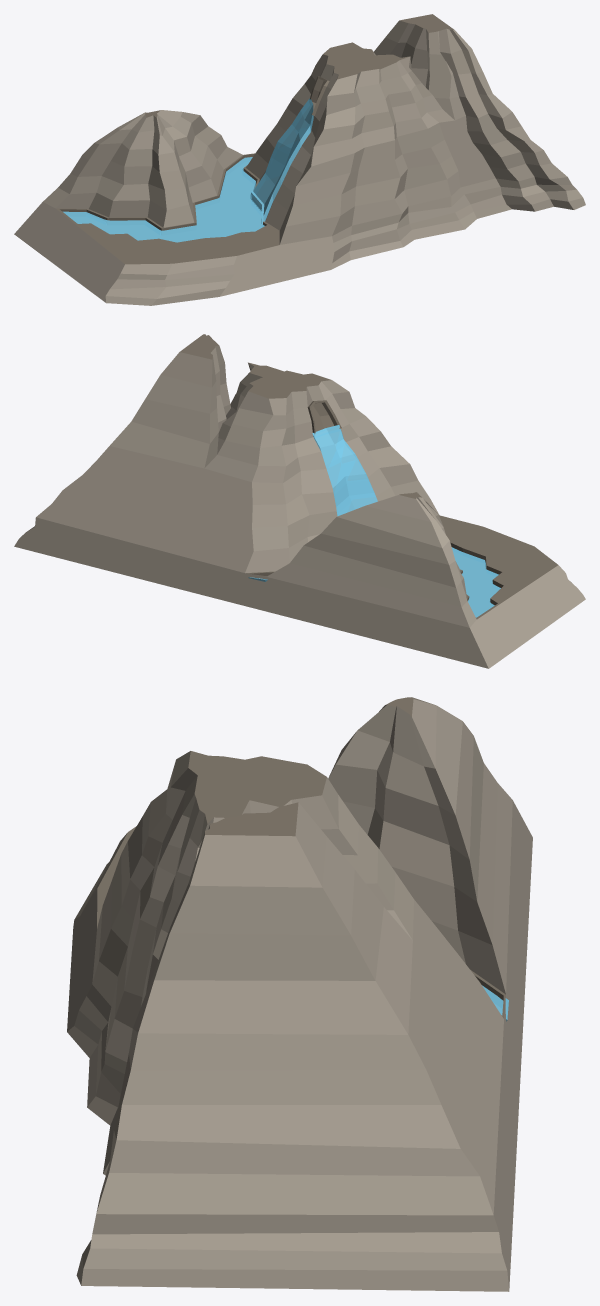
File: MOUNTAIN2.fbx
3 views of the same model, one above another, from view 1: azimuth 30°, elevation 25°; view 2: azimuth 150°, elevation 25°; view 3: azimuth 270°, elevation 25° (orthographic). The views are drawn at different scales.
Parts seen in each view (by area): view 1: Plane.010; view 2: Plane.010; view 3: Plane.010.
Boxes of the visible parts, bbox=[...] form: Plane.010: bbox=[14, 14, 585, 305]; Plane.010: bbox=[14, 334, 585, 668]; Plane.010: bbox=[67, 697, 532, 1291].
Bounding box in the file's own units: 12689 × 4672 × 5481.
